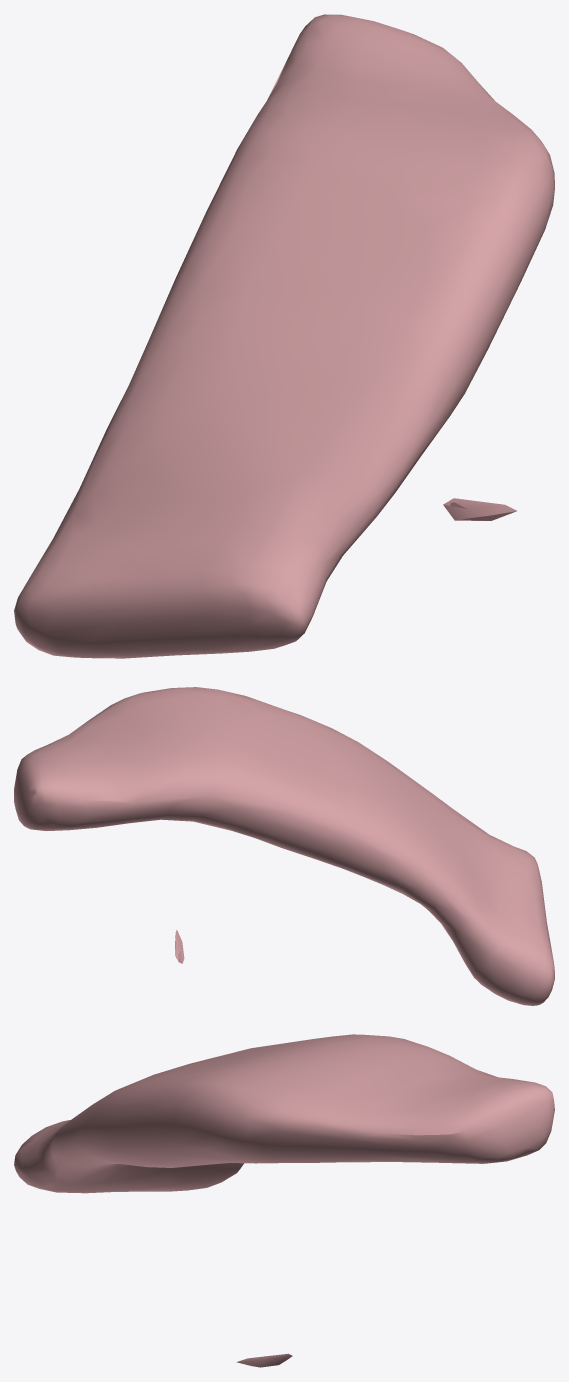
File: fma275449_mm3774m.glb
3 views of the same model, one above another, from view 1: azimuth 30°, elevation 25°; view 2: azimuth 150°, elevation 25°; view 3: azimuth 270°, elevation 25° (orthographic). The views are drawn at different scales.
Visible parts, largest first — view 1: FMA275449_MM3774M; view 2: FMA275449_MM3774M; view 3: FMA275449_MM3774M.
Part boxes in pixels (box(x1,y1,x2,y2)): FMA275449_MM3774M: box(14, 14, 554, 658); FMA275449_MM3774M: box(14, 687, 554, 1005); FMA275449_MM3774M: box(14, 1034, 554, 1367).
Bounding box in the file's own units: 0.0197 × 0.0118 × 0.0196.
